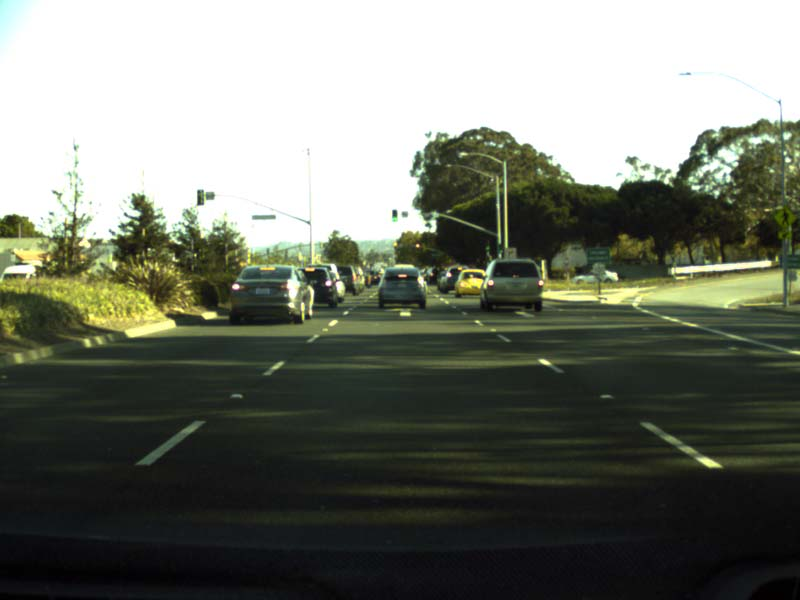Green: (391, 209, 397, 221)
